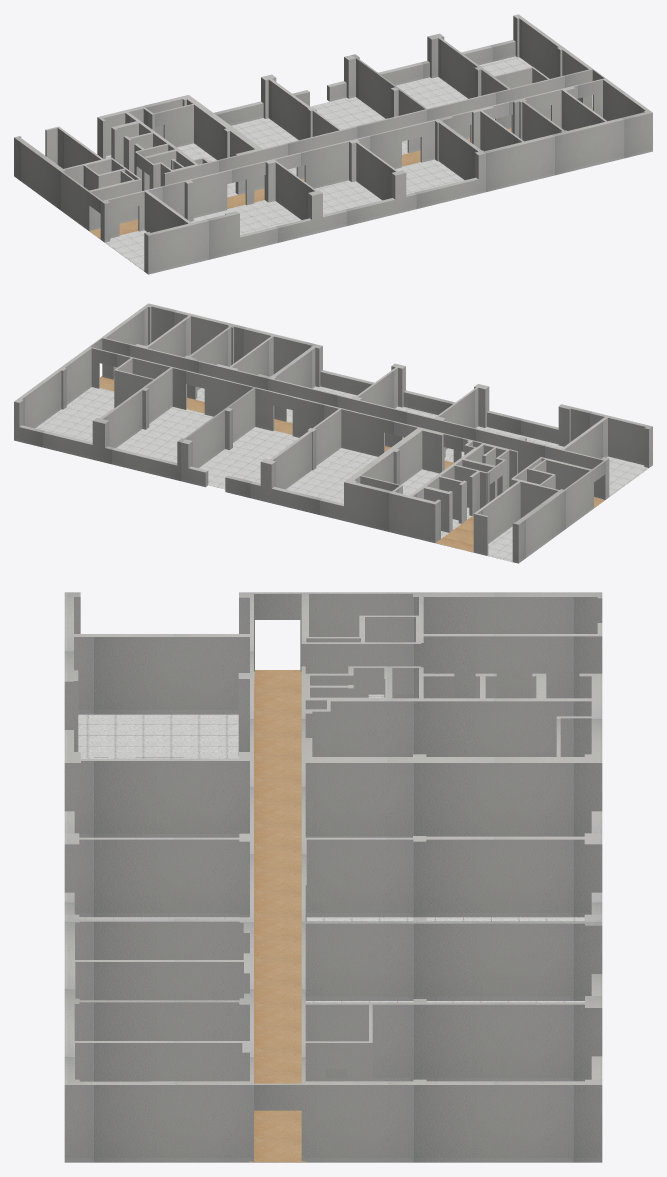
File: walls_UAMT.dae
3 views of the same model, one above another, from view 1: azimuth 30°, elevation 25°; view 2: azimuth 150°, elevation 25°; view 3: azimuth 270°, elevation 25° (orthographic). The views are drawn at different scales.
Parts seen in each view (by area): view 1: walls_UAMT; view 2: walls_UAMT; view 3: walls_UAMT.
Part boxes in pixels (<box>): walls_UAMT: <box>14,14,652,274</box>; walls_UAMT: <box>14,303,652,563</box>; walls_UAMT: <box>64,592,602,1162</box>.
Bounding box in the file's own units: 43.73 × 20.17 × 3.22.
Materials: 3 (3 with a texture image).
